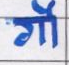au_matra: (35, 0, 64, 45)
